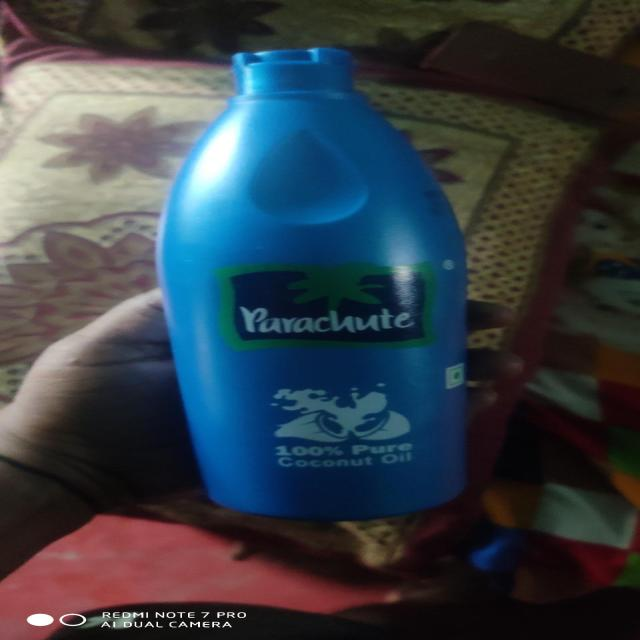parachute_oil: (141, 37, 484, 530)
